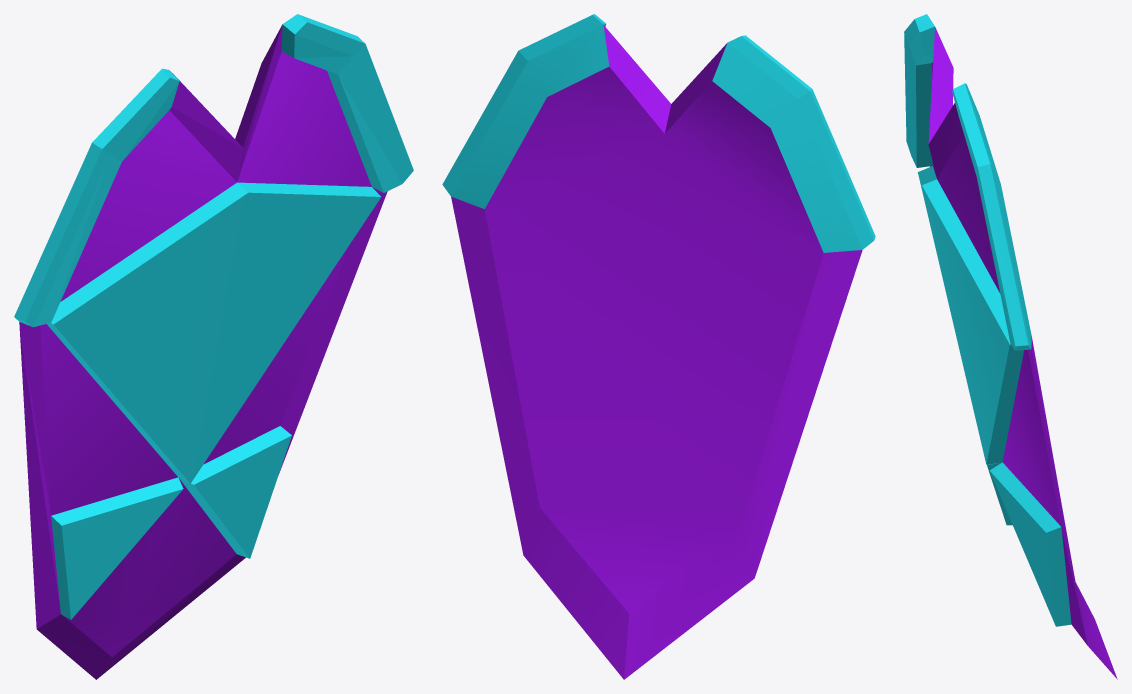
File: escudo.fbx
3 renders of one model, left to right at view 1: azimuth 30°, elevation 25°; view 2: azimuth 150°, elevation 25°; view 3: azimuth 270°, elevation 25°, orthographic. The views are drawn at different scales.
Parts seen in each view (by area): view 1: Line001; view 2: Line001; view 3: Line001.
Boxes of the visible parts, <box> form: Line001: <box>14,14,413,679</box>; Line001: <box>442,14,875,679</box>; Line001: <box>904,14,1117,679</box>.
Size of the model in its own units: 301 by 444 by 132.
